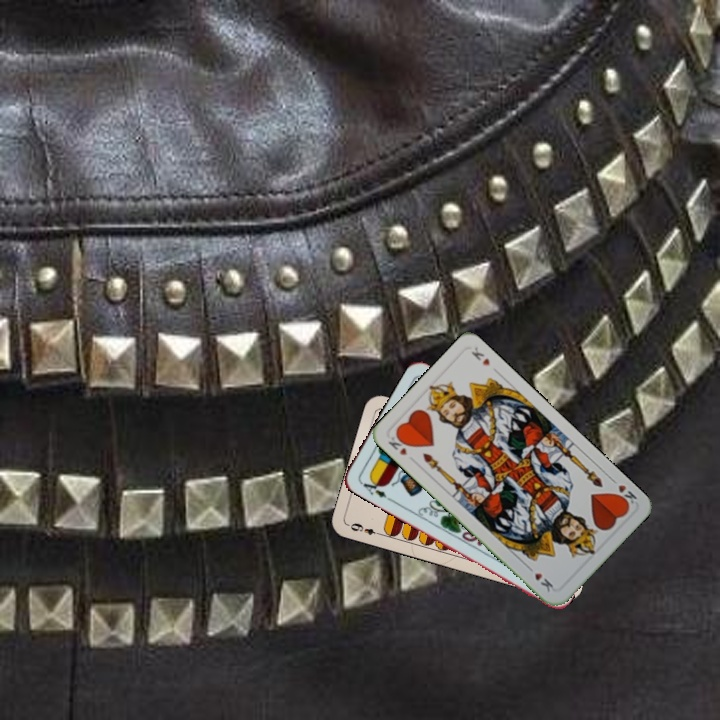E9: (345, 519, 385, 538)
EA: (356, 474, 389, 500)
HK: (606, 473, 639, 509), (384, 430, 412, 458)
